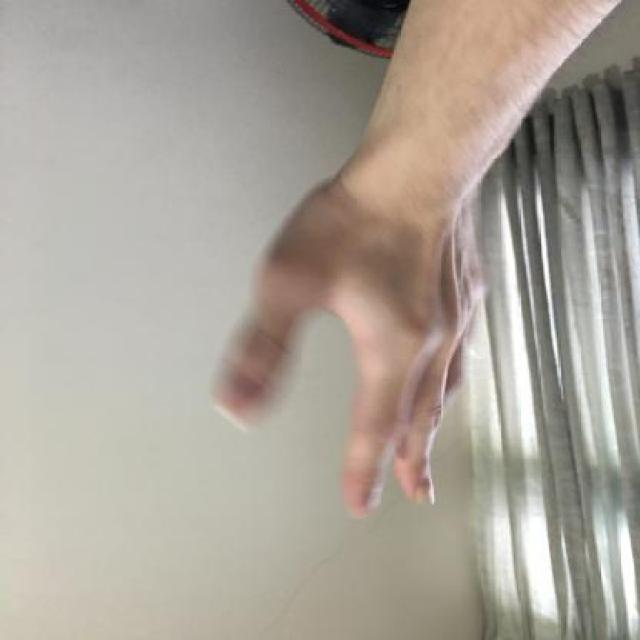bare_hand: (190, 148, 518, 530)
